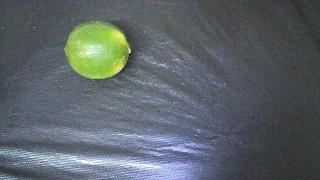LOCAL: (65, 21, 131, 79)
